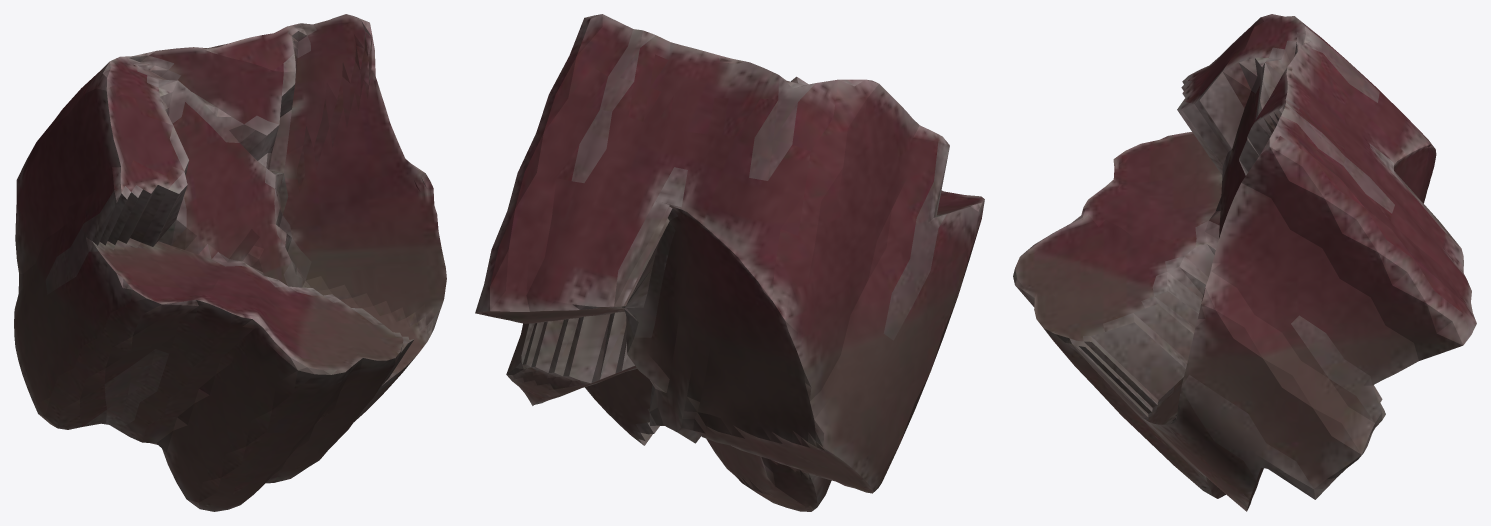
File: medium-promethium-asteroid.glb
3 views of the same model, side by side, from view 1: azimuth 30°, elevation 25°; view 2: azimuth 150°, elevation 25°; view 3: azimuth 270°, elevation 25° (orthographic). The views are drawn at different scales.
Visible parts, largest first — view 1: body; view 2: body; view 3: body.
Boxes of the visible parts, x1=… form: body: x1=14, y1=14, x2=446, y2=511; body: x1=475, y1=14, x2=984, y2=511; body: x1=1013, y1=14, x2=1476, y2=511.
Size of the model in its own units: 2.71 by 3.33 by 3.23.
1 material, 1 textured.
